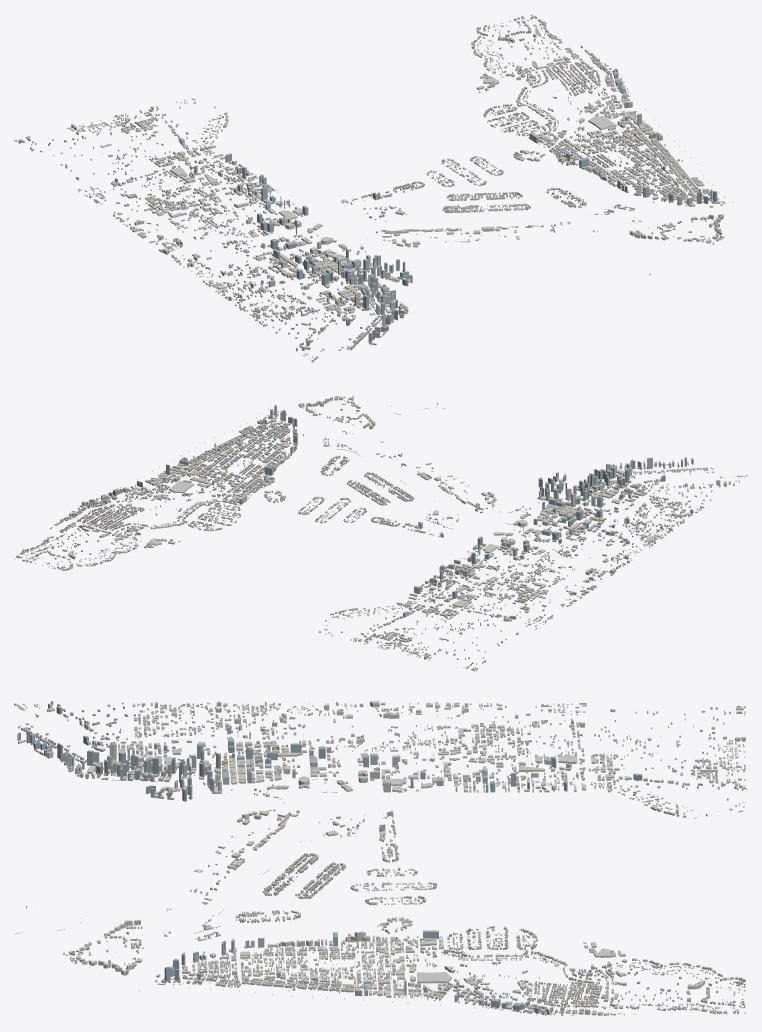
The model's file is miami-buildings.glb.
3 renders of one model, top to bottom at view 1: azimuth 30°, elevation 25°; view 2: azimuth 150°, elevation 25°; view 3: azimuth 270°, elevation 25°, orthographic. The views are drawn at different scales.
Visible parts, largest first — view 1: miami_buildings; view 2: miami_buildings; view 3: miami_buildings.
Boxes of the visible parts, bbox=[...] form: miami_buildings: bbox=[14, 14, 732, 362]; miami_buildings: bbox=[14, 396, 747, 671]; miami_buildings: bbox=[14, 700, 746, 1015].
Size of the model in its own units: 9746 by 278 by 9637.
